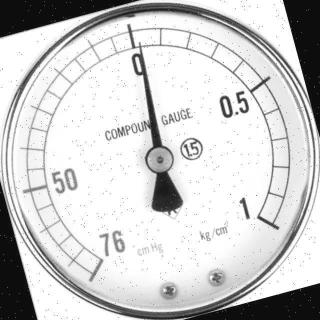gauge: (0, 0, 320, 320), (78, 220, 134, 296), (230, 187, 284, 247), (144, 144, 175, 174), (134, 36, 148, 54)
